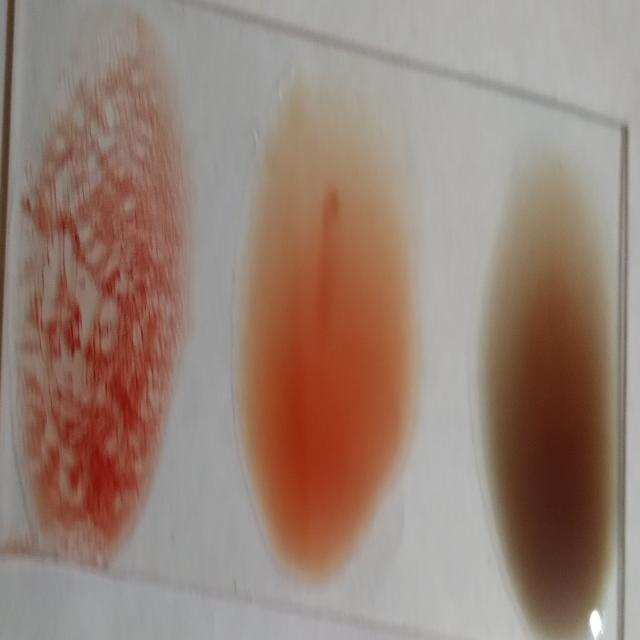D: (17, 44, 180, 559)
